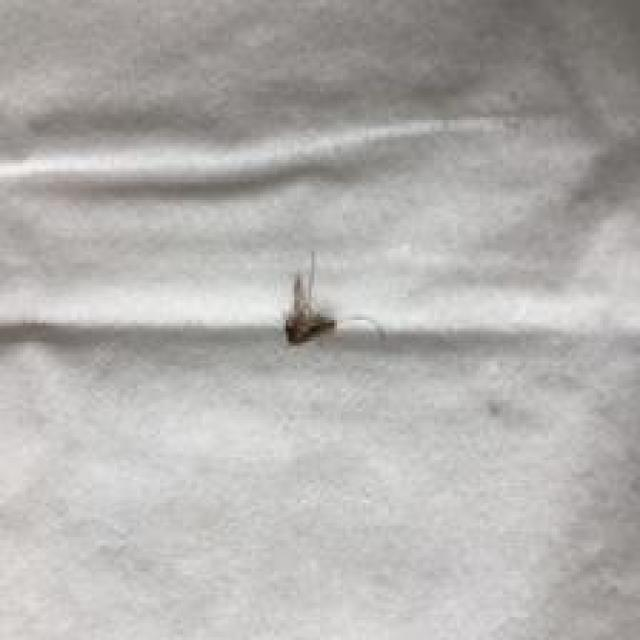Culex: (280, 250, 386, 347)
